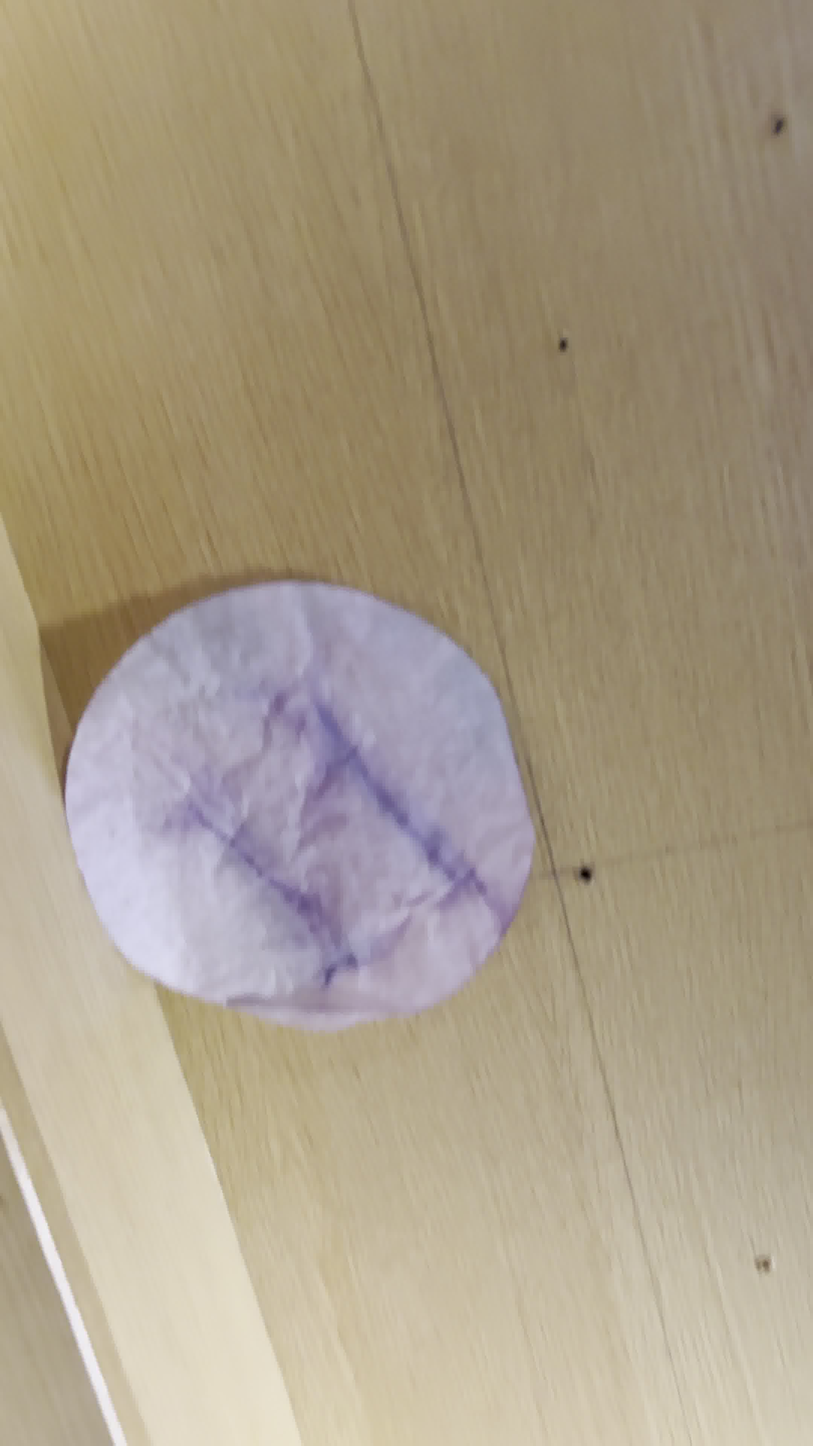Target: (66, 583, 534, 1030)
